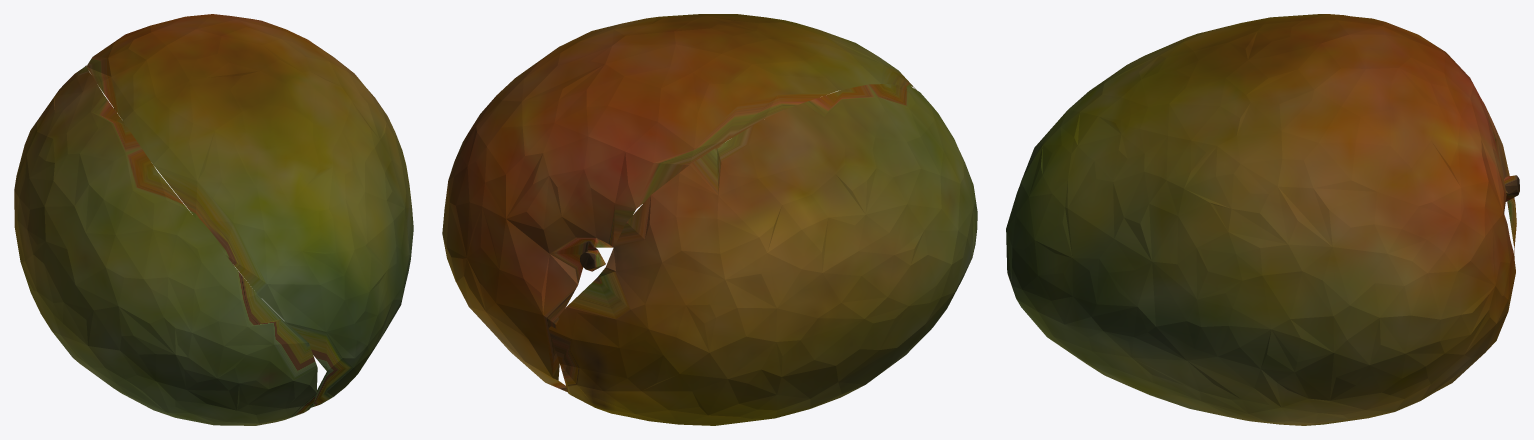
File: food_produce_mango_e01.glb
The picture shows the model from 3 angles, left to right: view 1: azimuth 30°, elevation 25°; view 2: azimuth 150°, elevation 25°; view 3: azimuth 270°, elevation 25°; orthographic projection. The views are drawn at different scales.
Visible parts, largest first — view 1: geometry_0; view 2: geometry_0; view 3: geometry_0.
Part boxes in pixels (box(x1,y1,x2,y2)): geometry_0: box(14, 14, 413, 425); geometry_0: box(442, 14, 977, 425); geometry_0: box(1006, 14, 1519, 425).
Bounding box in the file's own units: 0.3916 × 0.3364 × 0.42.
1 material, 1 textured.
